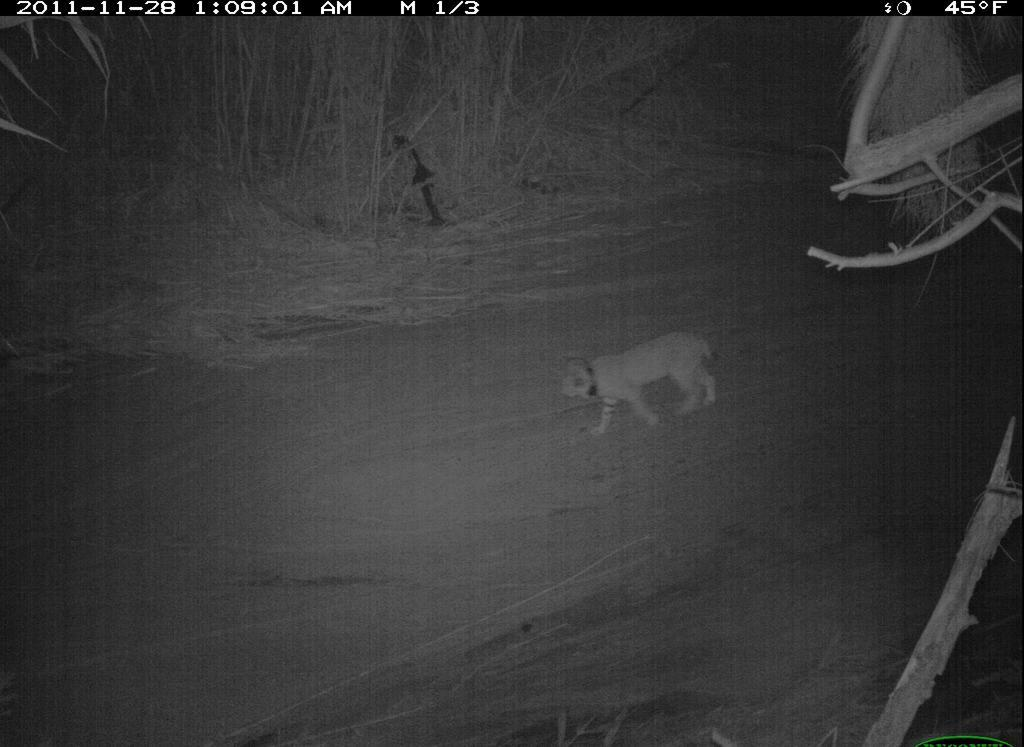bobcat: (556, 323, 730, 438)
